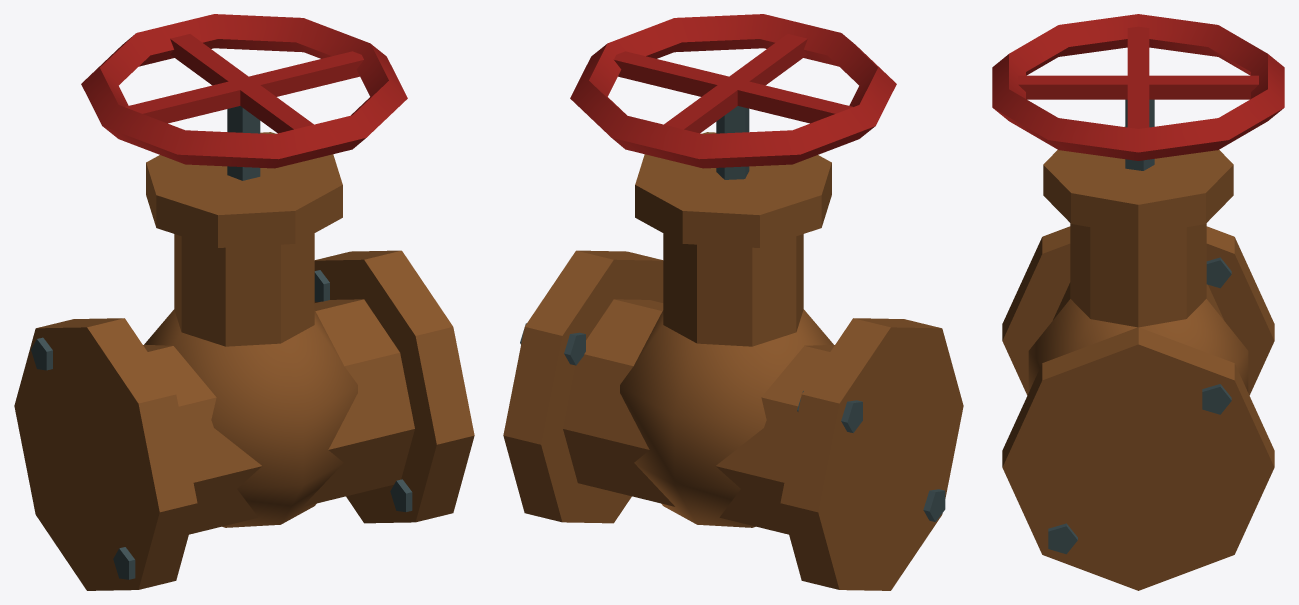
The model's file is scrap_valve.fbx.
3 views of the same model, side by side, from view 1: azimuth 30°, elevation 25°; view 2: azimuth 150°, elevation 25°; view 3: azimuth 270°, elevation 25° (orthographic). The views are drawn at different scales.
Parts seen in each view (by area): view 1: scrap_valve; view 2: scrap_valve; view 3: scrap_valve.
Part boxes in pixels (x1,y1,x2,y2): scrap_valve: (14, 14, 474, 590); scrap_valve: (503, 14, 963, 590); scrap_valve: (992, 14, 1284, 590).
Size of the model in its own units: 0.26 by 0.363 by 0.2149.
1 material, 1 textured.
